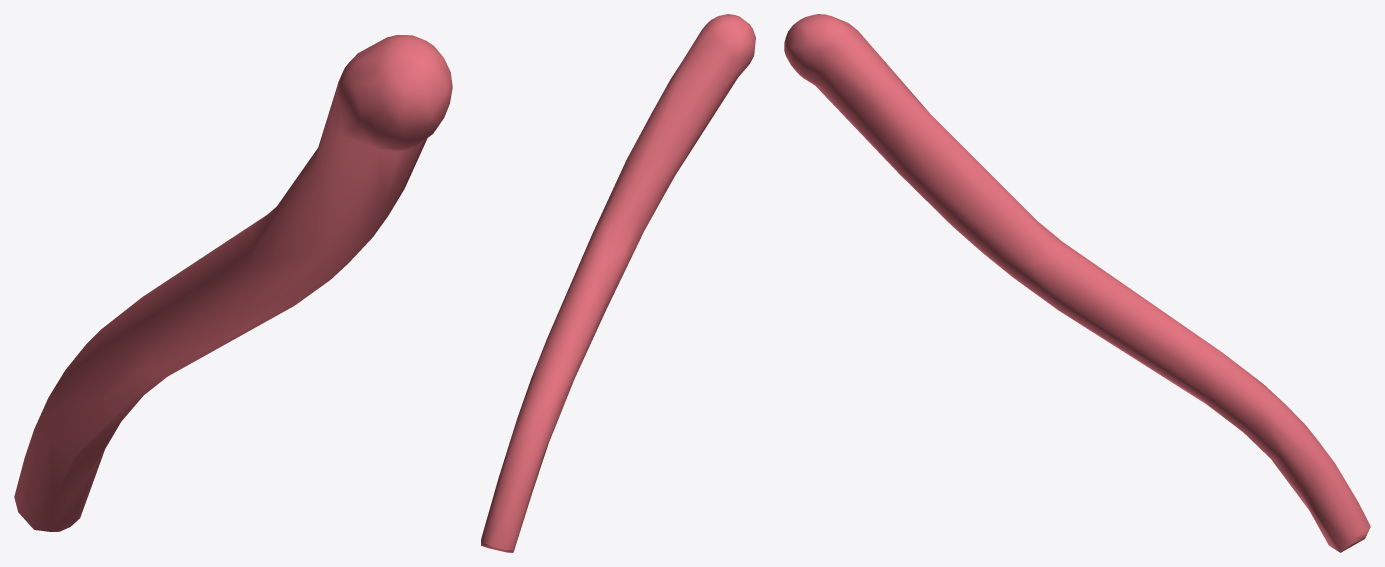
File: fma18888.glb
The picture shows the model from 3 angles, left to right: view 1: azimuth 30°, elevation 25°; view 2: azimuth 150°, elevation 25°; view 3: azimuth 270°, elevation 25°; orthographic projection. The views are drawn at different scales.
Parts seen in each view (by area): view 1: FMA18888; view 2: FMA18888; view 3: FMA18888.
Boxes of the visible parts, x1,y1,x2,y2 form: FMA18888: (14, 35, 452, 531); FMA18888: (481, 14, 755, 552); FMA18888: (784, 14, 1370, 552).
Bounding box in the file's own units: 0.0117 × 0.0587 × 0.0607.
